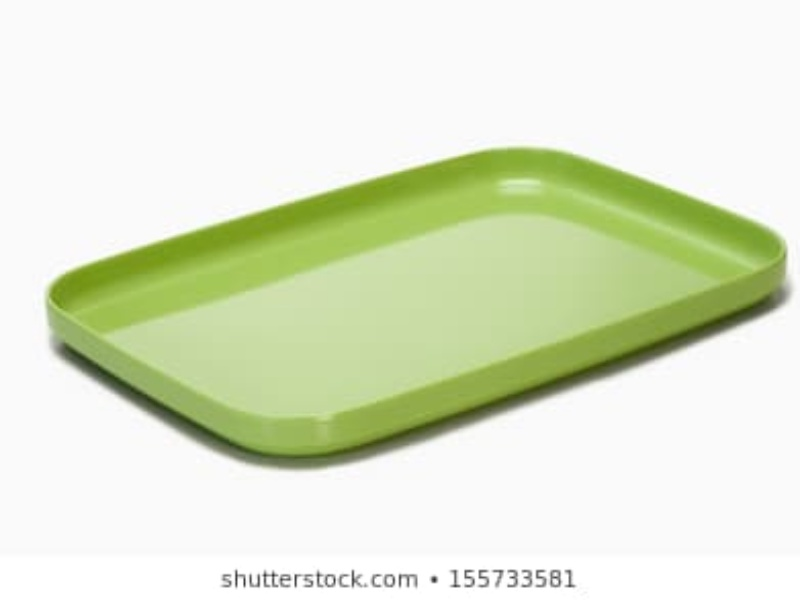plastic-tray: (46, 143, 789, 458)
